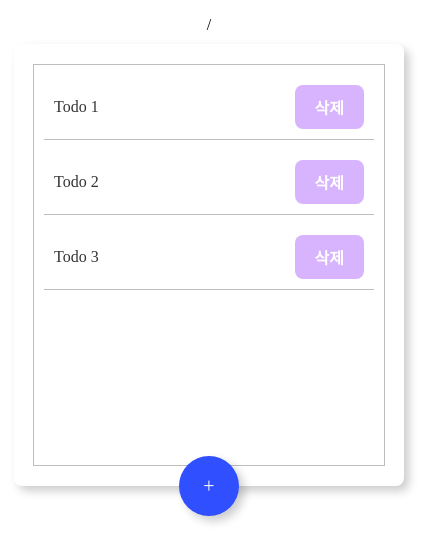
List Page › 상세 페이지로 이동
Expected: the text "/" is shown, [207,16,211,34]
Click the link "Todo 2".
click(76, 182)  # box [54,173,99,190]
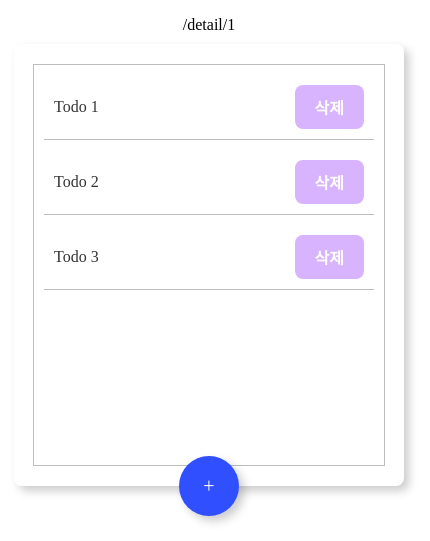
Expected: the text "/detail/1" is shown, [183,16,235,34]
